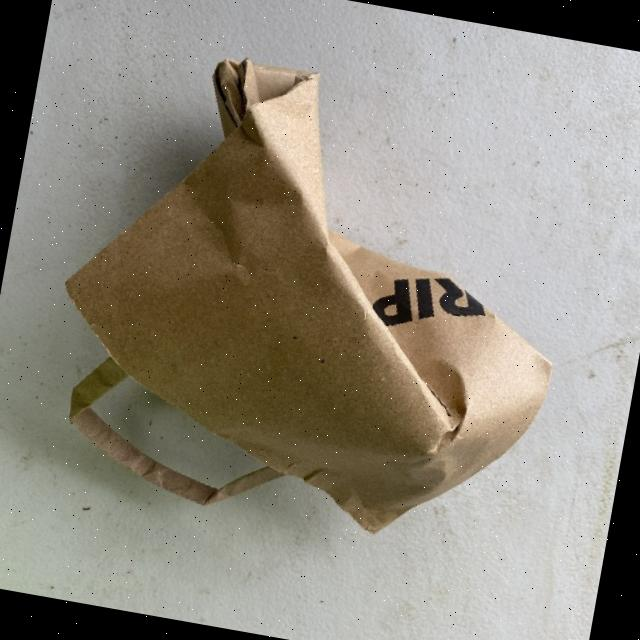paper: (29, 32, 596, 561)
